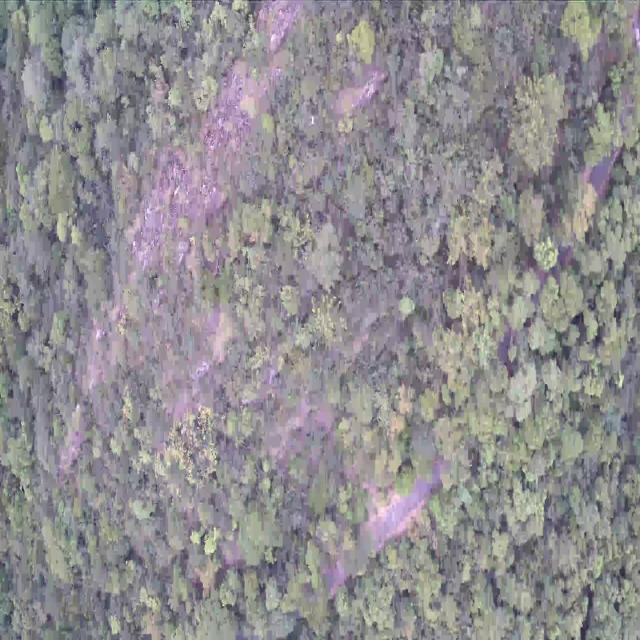drone: (309, 114, 317, 127)
